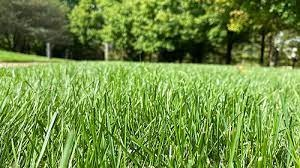grass: (1, 64, 297, 164)
